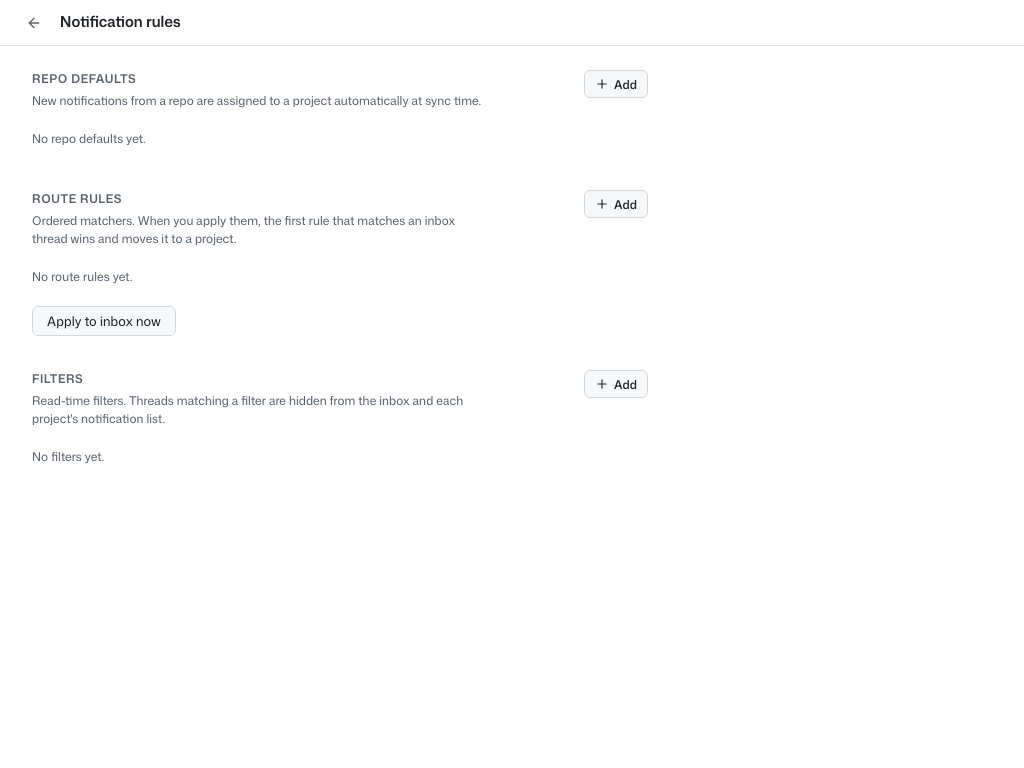
RulesView › blocks creating a filter with no conditions and shows an error
The width and height of the screenshot is (1024, 768).
Note: Open the Filters add form (the last "Add" button).
Click the 3rd button "Add" at coordinates (616, 384), box [584,370,648,398]
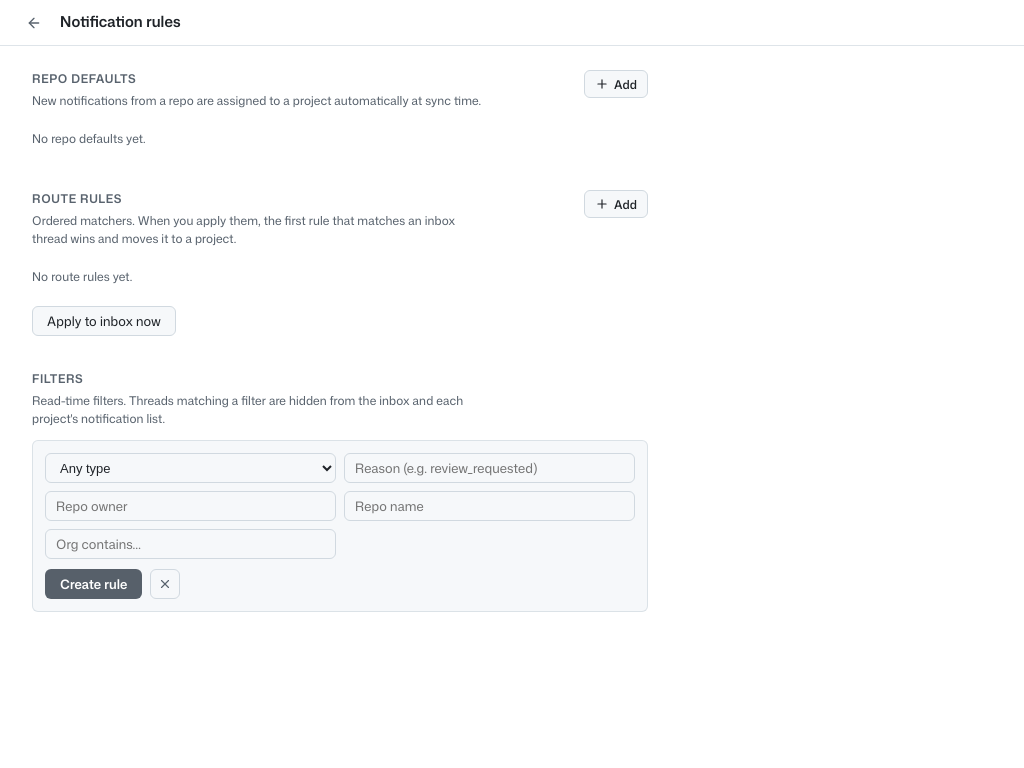
Click the button "Create rule" at coordinates (94, 584), box [45,569,142,599]
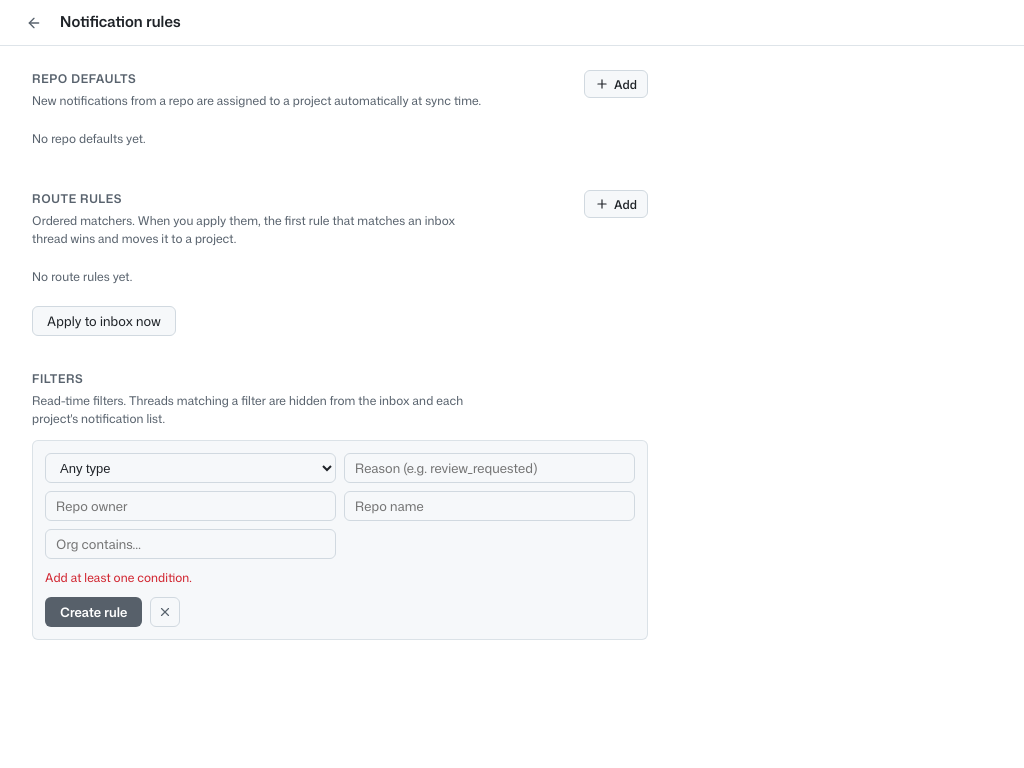
Check: the text "Add at least one condition." is shown, box [45,569,192,586]
